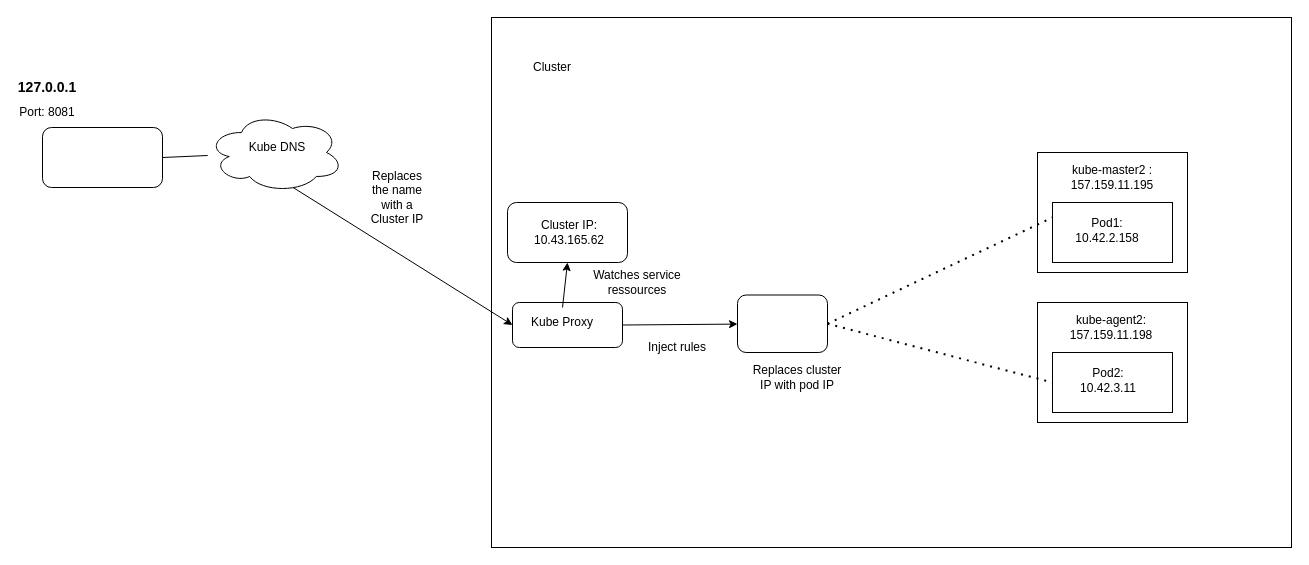
This 1309x565 diagram has some shape labels left out. Here are the shapes that lost their labels. From the top down, the box of each, then its label:
(42, 126, 162, 188): loopback
(736, 294, 828, 352): iptables
